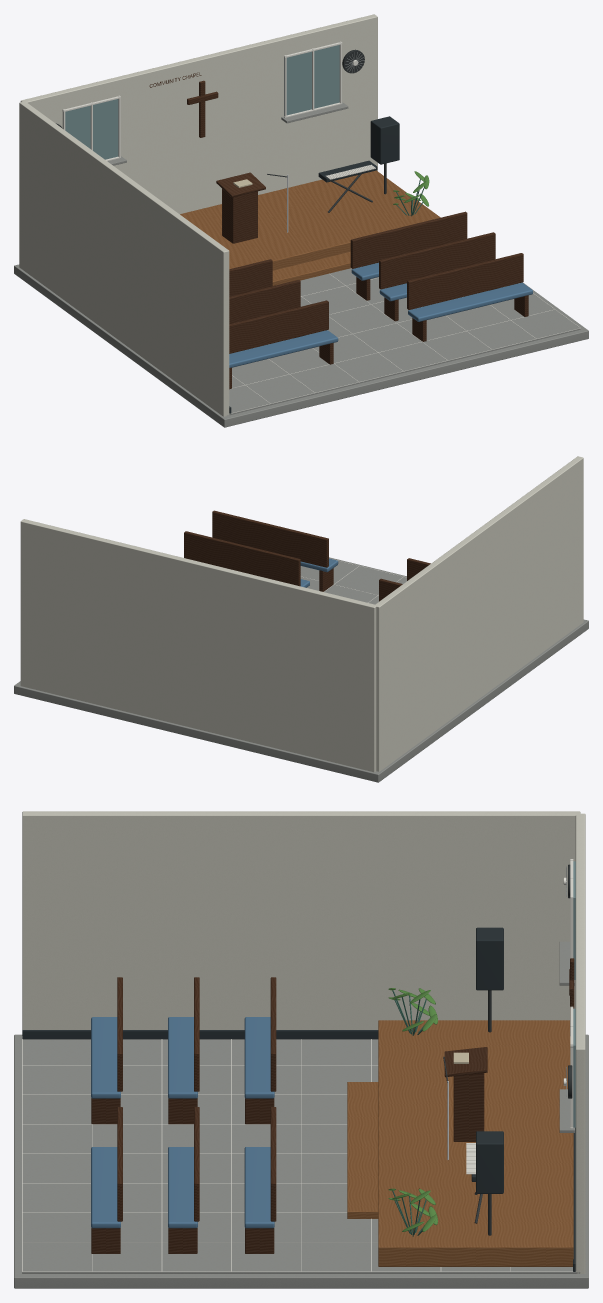
The model's file is lagos-church.glb.
The picture shows the model from 3 angles, top to bottom: view 1: azimuth 30°, elevation 25°; view 2: azimuth 150°, elevation 25°; view 3: azimuth 270°, elevation 25°; orthographic projection. The views are drawn at different scales.
Visible parts, largest first — view 1: Side wall, Rear wall, Finished floor, Raised sanctuary platform, Floor slab, Pew back.001, Pew back.005, Pew back.003, Window glass.001, Pew back, Window glass, Pew back.002 (+7 smaller); view 2: Rear wall, Side wall, Floor slab, Pew back.001, Pew back.003, Finished floor; view 3: Side wall, Finished floor, Raised sanctuary platform, Floor slab, Rear wall, Platform step, Side skirting, Upholstered pew seat.004, Upholstered pew seat.005, Upholstered pew seat, Upholstered pew seat.001, Upholstered pew seat.002 (+17 smaller).
Part boxes in pixels (bbox=[...]): Side wall: bbox=[19, 101, 229, 416]; Rear wall: bbox=[20, 14, 377, 214]; Finished floor: bbox=[227, 263, 580, 415]; Raised sanctuary platform: bbox=[180, 170, 440, 270]; Floor slab: bbox=[14, 264, 588, 427]; Pew back.001: bbox=[407, 253, 523, 309]; Pew back.005: bbox=[350, 211, 467, 268]; Pew back.003: bbox=[379, 232, 495, 289]; Window glass.001: bbox=[284, 45, 339, 115]; Pew back: bbox=[229, 300, 328, 353]; Window glass: bbox=[65, 99, 118, 159]; Pew back.002: bbox=[229, 280, 300, 323]; Rear wall: bbox=[20, 519, 376, 772]; Side wall: bbox=[375, 456, 583, 771]; Floor slab: bbox=[14, 557, 588, 782]; Pew back.001: bbox=[212, 510, 328, 567]; Pew back.003: bbox=[184, 531, 300, 586]; Finished floor: bbox=[300, 561, 406, 604]; Side wall: bbox=[22, 811, 580, 1029]; Finished floor: bbox=[22, 1039, 580, 1273]; Raised sanctuary platform: bbox=[378, 1020, 573, 1266]; Floor slab: bbox=[14, 1034, 588, 1288]; Rear wall: bbox=[575, 813, 585, 1273]; Platform step: bbox=[347, 1082, 378, 1218]; Side skirting: bbox=[22, 1030, 378, 1039]; Upholstered pew seat.004: bbox=[244, 1017, 274, 1098]; Upholstered pew seat.005: bbox=[244, 1147, 274, 1228]; Upholstered pew seat: bbox=[91, 1017, 120, 1098]; Upholstered pew seat.001: bbox=[91, 1147, 120, 1228]; Upholstered pew seat.002: bbox=[168, 1017, 197, 1098].
Bounding box in the file's own units: 8.24 × 3.73 × 8.24.
Materials: 14 (4 with a texture image).
